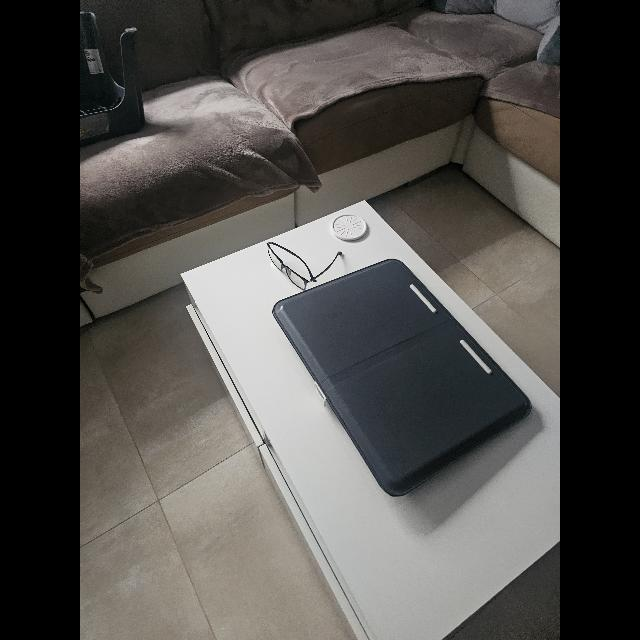glasses: (266, 242, 342, 290)
